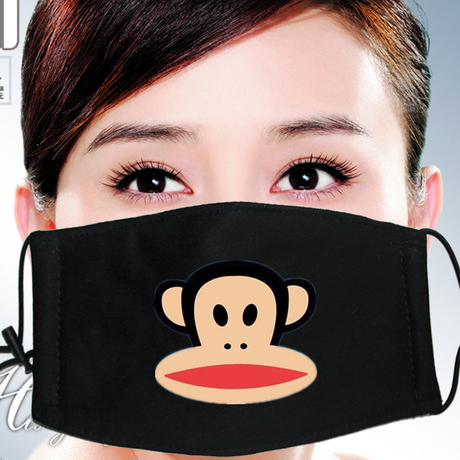face_mask: (53, 24, 410, 425)
